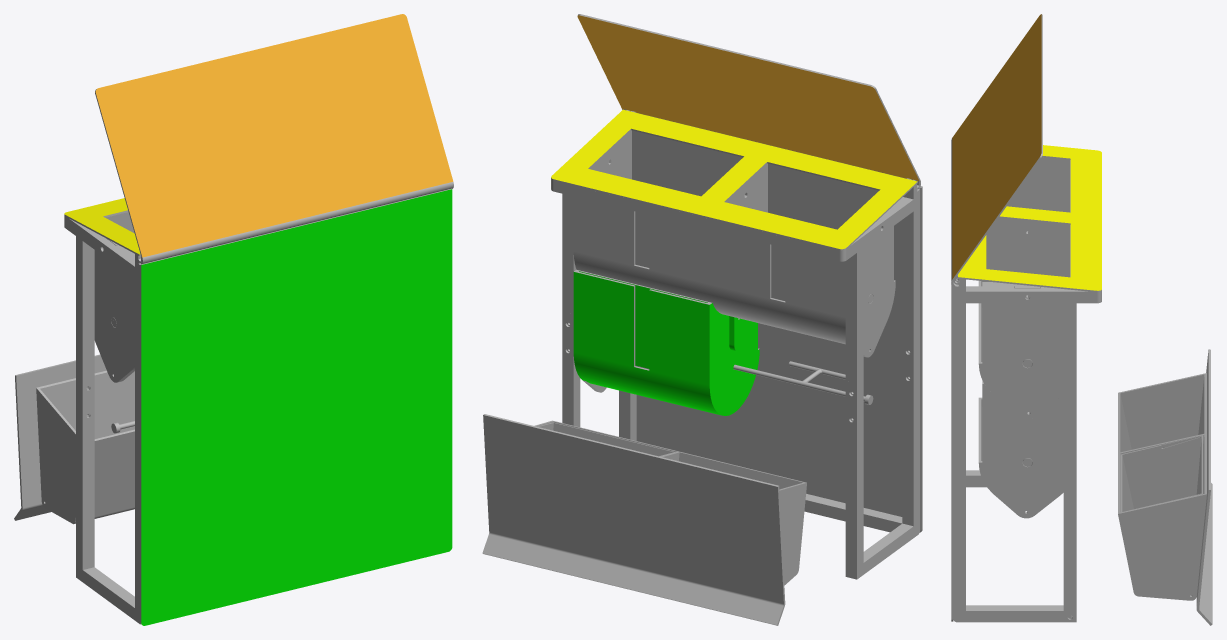
Rendered from composter_assembly.glb.
The picture shows the model from 3 angles, left to right: view 1: azimuth 30°, elevation 25°; view 2: azimuth 150°, elevation 25°; view 3: azimuth 270°, elevation 25°; orthographic projection. The views are drawn at different scales.
Parts seen in each view (by area): view 1: BACK PANEL-1, LID PANEL-1, DRAWER-1, ACTIVE PHASE ONE-1, DRAWER PANEL-1, FRAME 11-1, FRAME 13-1, LID PANEL 2-1, FRAME 1-1, FRAME 2-1, FRAME 17-1, FRAME 9-1; view 2: DRAWER PANEL-1, BACK PANEL-1, LID PANEL-1, ACTIVE PHASE ONE-1, CURING PHASE ONE-1, ACTIVE PAHSE TWO-1, LID PANEL 2-1, DRAWER-1, FRAME 13-1, FRAME 17-1, FRAME 9-1, FRAME 11-1 (+10 smaller); view 3: LID PANEL-1, ACTIVE PAHSE TWO-1, DRAWER-1, CURING PHASE ONE-1, LID PANEL 2-1, INNER DRAWER-1, ACTIVE PHASE ONE-1, FRAME 12-1, FRAME 14-1, FRAME 8-1, FRAME 10-1, DRAWER PANEL-1 (+3 smaller).
Boxes of the visible parts, bbox=[...] form: BACK PANEL-1: bbox=[140, 188, 452, 625]; LID PANEL-1: bbox=[95, 14, 453, 264]; DRAWER-1: bbox=[36, 370, 134, 524]; ACTIVE PHASE ONE-1: bbox=[94, 212, 134, 382]; DRAWER PANEL-1: bbox=[14, 354, 106, 520]; FRAME 11-1: bbox=[76, 236, 94, 429]; FRAME 13-1: bbox=[76, 372, 94, 581]; LID PANEL 2-1: bbox=[64, 198, 140, 255]; FRAME 1-1: bbox=[69, 218, 134, 278]; FRAME 2-1: bbox=[82, 567, 134, 620]; FRAME 17-1: bbox=[135, 254, 141, 469]; FRAME 9-1: bbox=[135, 418, 140, 624]; DRAWER PANEL-1: bbox=[482, 414, 785, 625]; BACK PANEL-1: bbox=[636, 186, 922, 532]; LID PANEL-1: bbox=[577, 14, 920, 188]; ACTIVE PHASE ONE-1: bbox=[709, 163, 895, 357]; CURING PHASE ONE-1: bbox=[573, 269, 759, 415]; ACTIVE PAHSE TWO-1: bbox=[573, 130, 742, 302]; LID PANEL 2-1: bbox=[551, 109, 917, 250]; DRAWER-1: bbox=[534, 420, 806, 585]; FRAME 13-1: bbox=[845, 380, 863, 579]; FRAME 17-1: bbox=[902, 178, 920, 391]; FRAME 9-1: bbox=[902, 337, 920, 537]; FRAME 11-1: bbox=[845, 248, 863, 430]; LID PANEL-1: bbox=[951, 14, 1042, 286]; ACTIVE PAHSE TWO-1: bbox=[978, 218, 1070, 419]; DRAWER-1: bbox=[1118, 373, 1206, 600]; CURING PHASE ONE-1: bbox=[978, 380, 1063, 518]; LID PANEL 2-1: bbox=[958, 145, 1101, 292]; INNER DRAWER-1: bbox=[1120, 435, 1203, 595]; ACTIVE PHASE ONE-1: bbox=[978, 157, 1070, 286]; FRAME 12-1: bbox=[1063, 430, 1076, 622]; FRAME 14-1: bbox=[953, 275, 965, 479]; FRAME 8-1: bbox=[953, 430, 965, 622]; FRAME 10-1: bbox=[1063, 303, 1076, 479]; DRAWER PANEL-1: bbox=[1196, 349, 1212, 625].
Bounding box in the file's own units: 0.4057 × 0.6077 × 0.3064.
